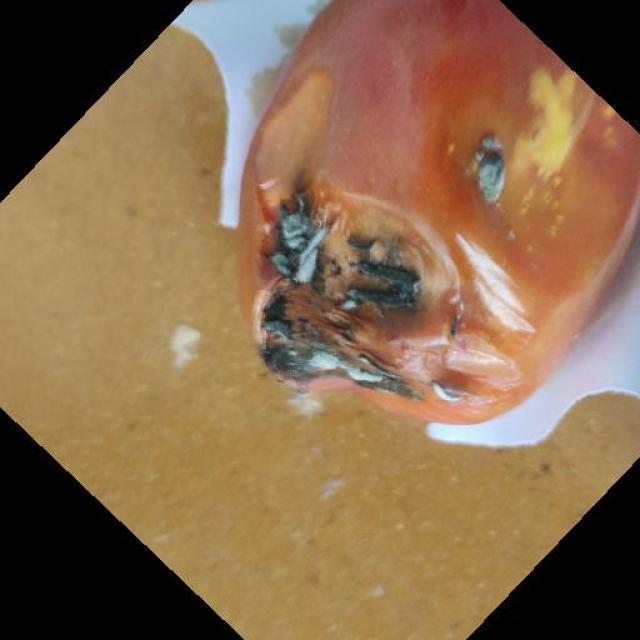Stale_tomato: (245, 0, 635, 422)
